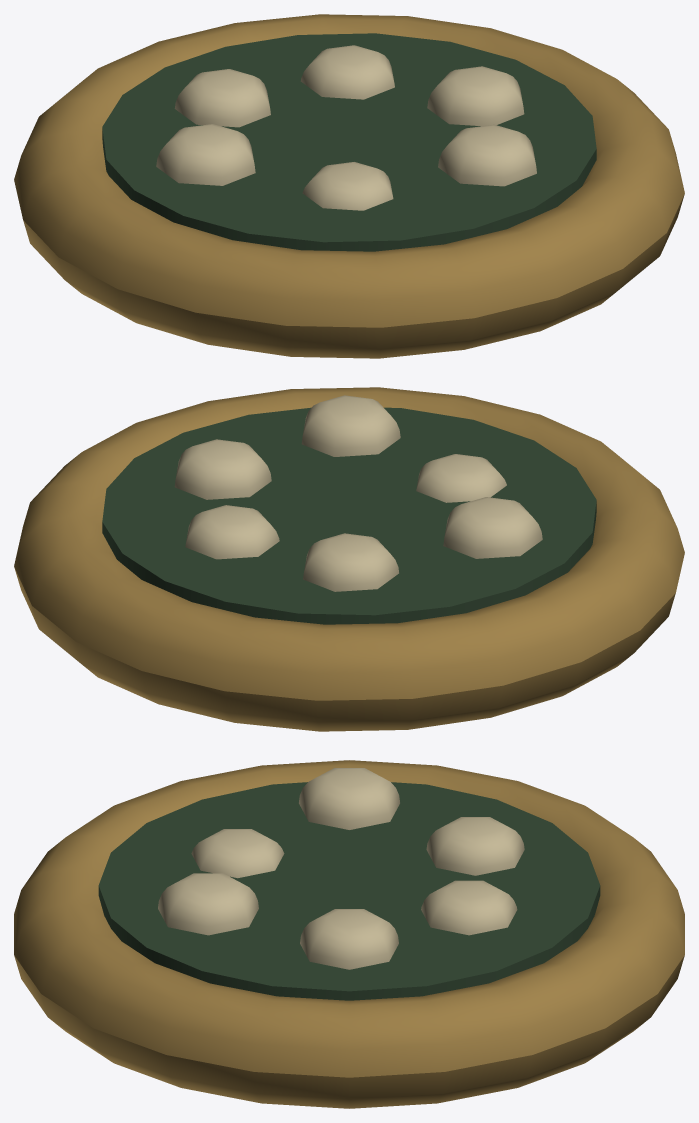
File: pizza.obj
3 renders of one model, top to bottom at view 1: azimuth 30°, elevation 25°; view 2: azimuth 150°, elevation 25°; view 3: azimuth 270°, elevation 25°, orthographic.
Visible parts, largest first — view 1: pizza; view 2: pizza; view 3: pizza.
Part boxes in pixels (x1=…): pizza: x1=14, y1=14, x2=684, y2=358; pizza: x1=14, y1=387, x2=684, y2=731; pizza: x1=14, y1=760, x2=684, y2=1108.
Size of the model in its own units: 2 by 0.4462 by 1.98.
